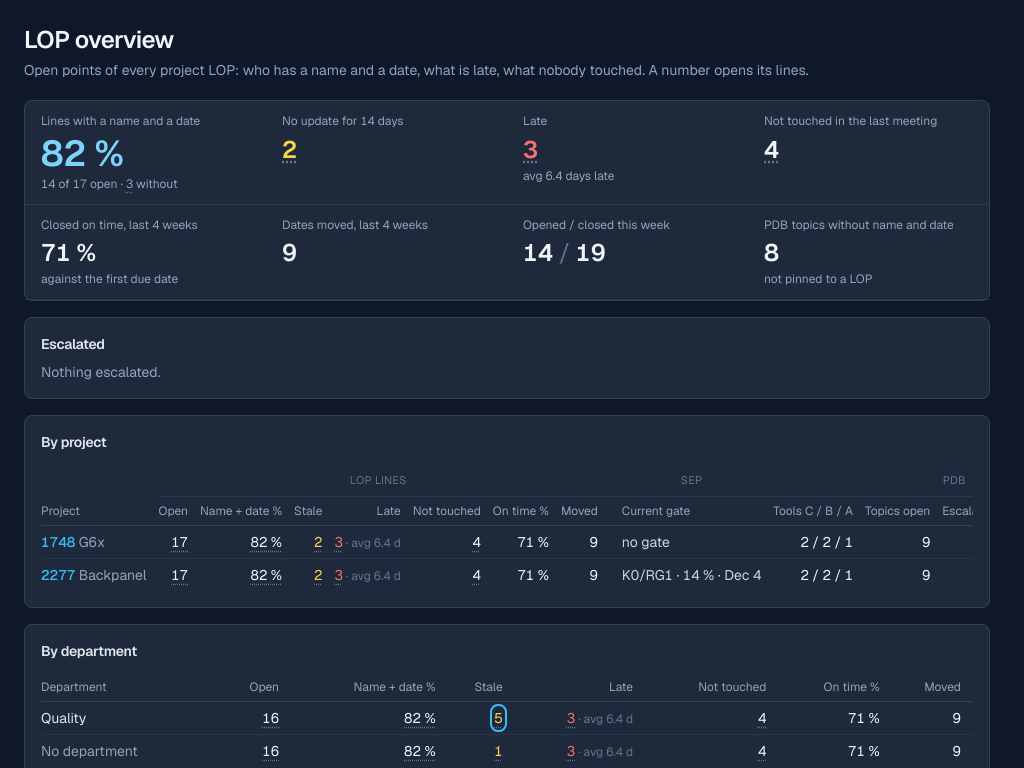
Test: LopOverviewPage › opens the stale lines of a department when its stale count is clicked
Expected: the table named "By department" is shown, [41,673,973,767]
What coordinates should you click on to do the following:
click the button "5"
I would click on:
 (498, 718)
Its box is [494,708,503,728].
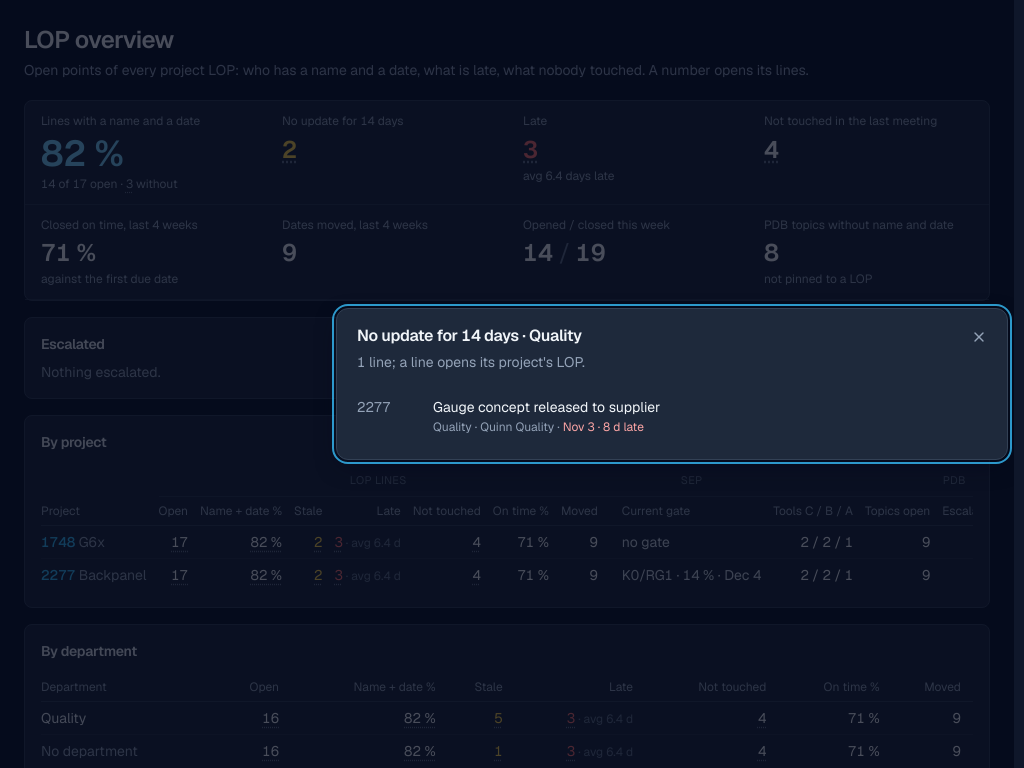
Expected: the heading reads "No update for 14 days · Quality", [357,325,582,346]
Expected: the dialog shows "2277", [357,398,391,416]
Expected: the dialog shows "Quinn Quality", [480,419,554,435]
What coordinates should you click on to do the following:
click the button named "Close"
I would click on:
 (979, 337)
Its box is [963,321,995,353].
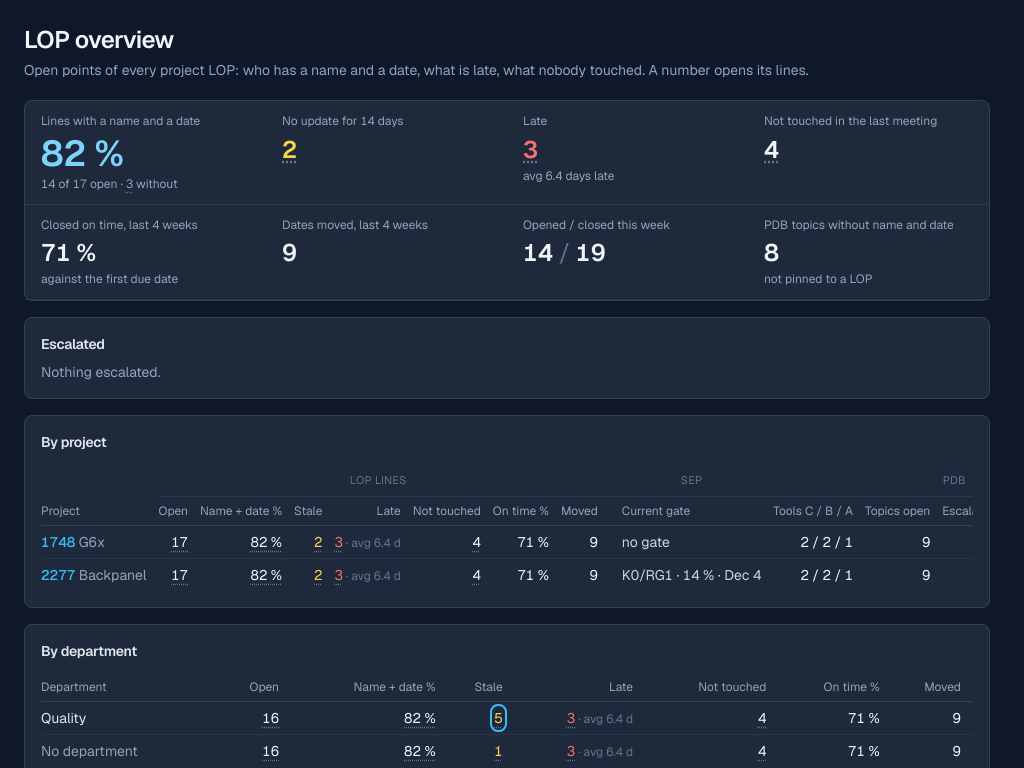
Expected: the dialog is gone
